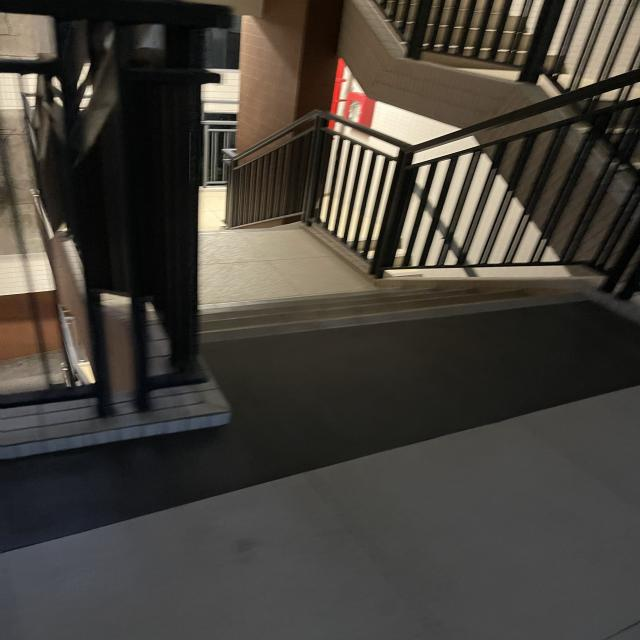Stairs: (180, 219, 602, 356)
